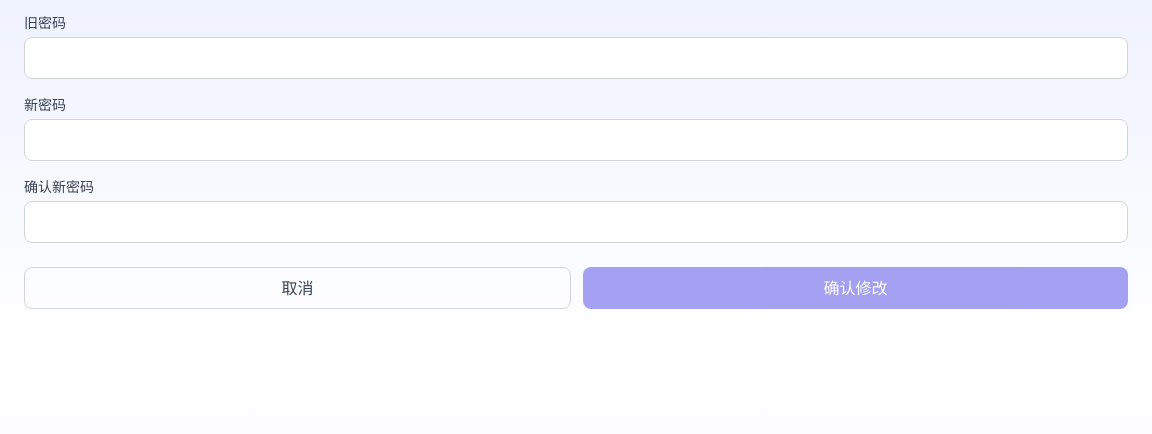
Test: ChangePassword › REQ-AUTH-009: shows password strength indicator for new password
This screenshot has width=1152, height=434.
Type "weak" into the password field labelled "新密码" at (576,140), box [24,119,1128,161]
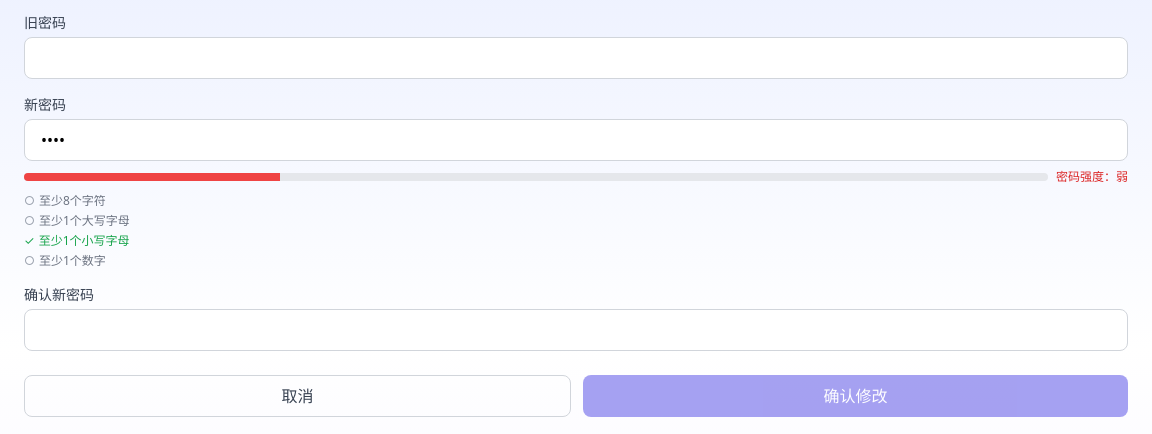
Expected: the text "密码强度：弱" is shown, [1056,169,1128,185]
Expected: the text "至少8个字符" is shown, [39,193,106,209]
